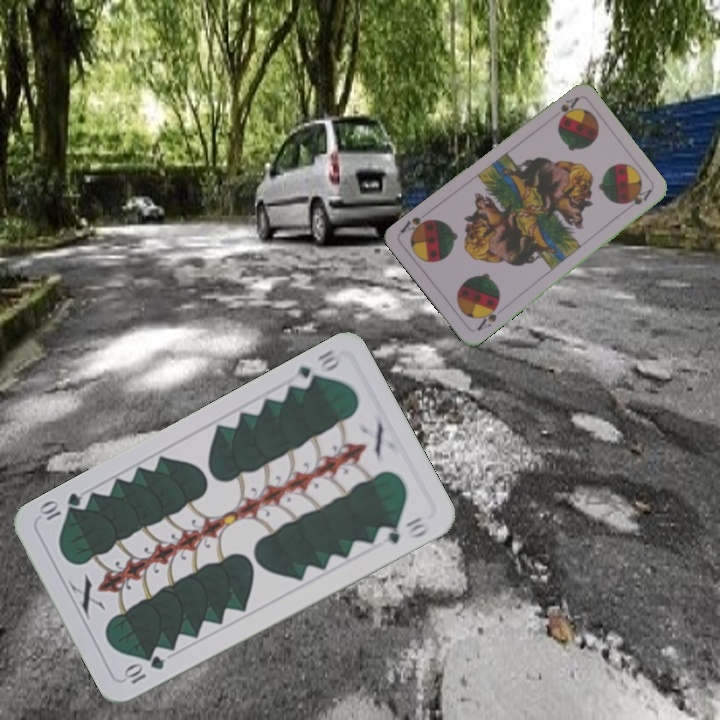G10: (287, 345, 343, 392), (120, 651, 167, 687)
SA: (472, 300, 501, 333), (555, 93, 582, 123)
